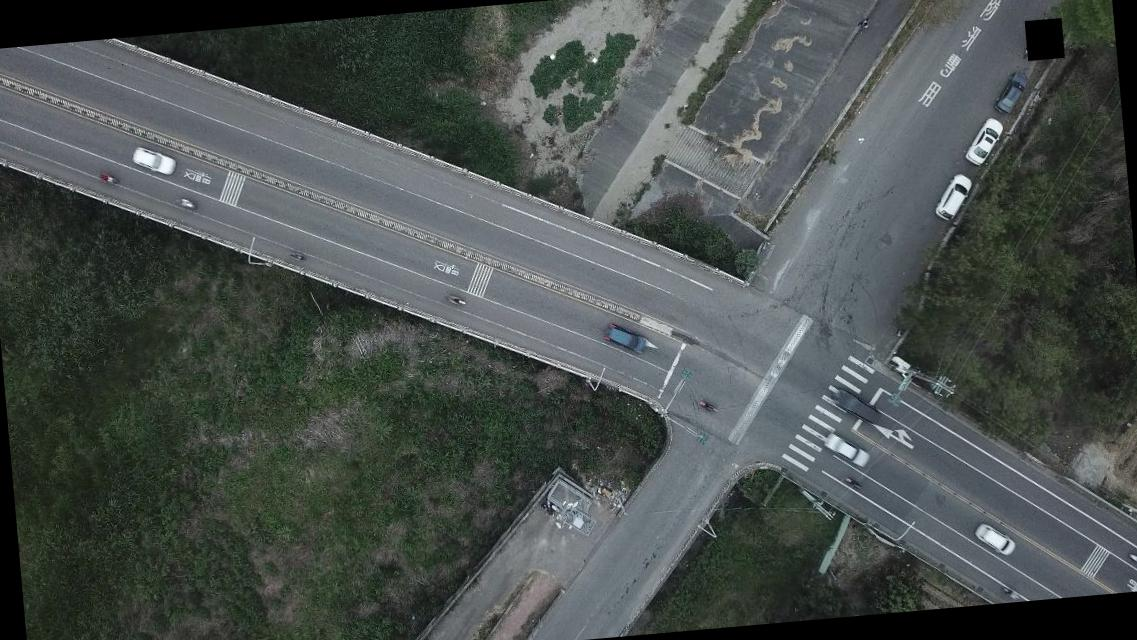vehicle: (960, 116, 1005, 166), (932, 174, 977, 222), (823, 431, 871, 473), (830, 387, 879, 428), (988, 73, 1030, 118), (131, 142, 176, 180), (975, 521, 1018, 560), (604, 322, 650, 357)
